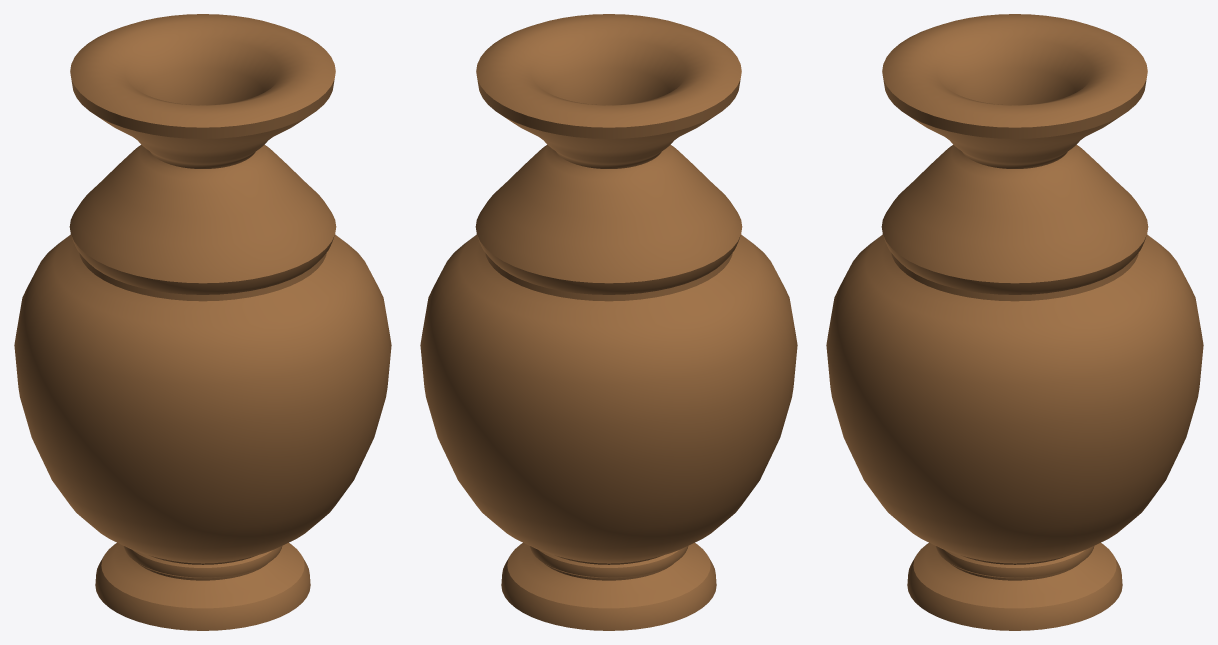
Rendered from env-pot1.fbx.
The picture shows the model from 3 angles, left to right: view 1: azimuth 30°, elevation 25°; view 2: azimuth 150°, elevation 25°; view 3: azimuth 270°, elevation 25°; orthographic projection.
Parts seen in each view (by area): view 1: Circle; view 2: Circle; view 3: Circle.
Part boxes in pixels (x1,y1,x2,y2): Circle: (14, 14, 391, 630); Circle: (420, 14, 797, 630); Circle: (826, 14, 1203, 630).
Bounding box in the file's own units: 110 × 168 × 110.
